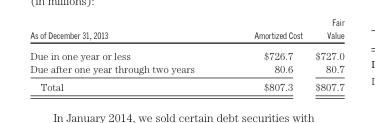table: (29, 29, 343, 92)
table column: (29, 29, 223, 92), (223, 29, 308, 92), (308, 29, 343, 92)
table column header: (29, 29, 343, 44)
table row: (29, 44, 343, 62), (29, 29, 343, 44), (29, 62, 343, 77), (29, 77, 343, 92)
